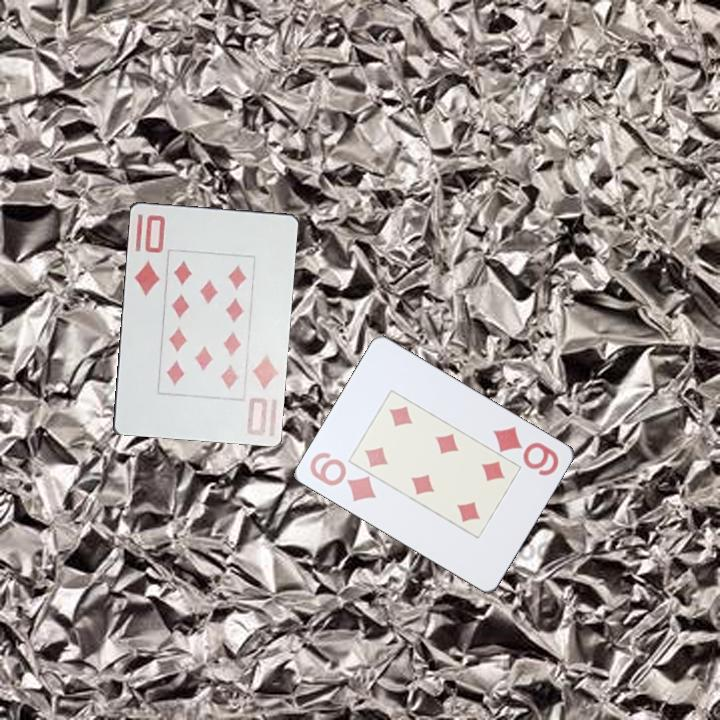6d: (306, 448, 380, 505), (489, 423, 562, 479)
Td: (130, 211, 168, 298), (243, 350, 280, 438)
